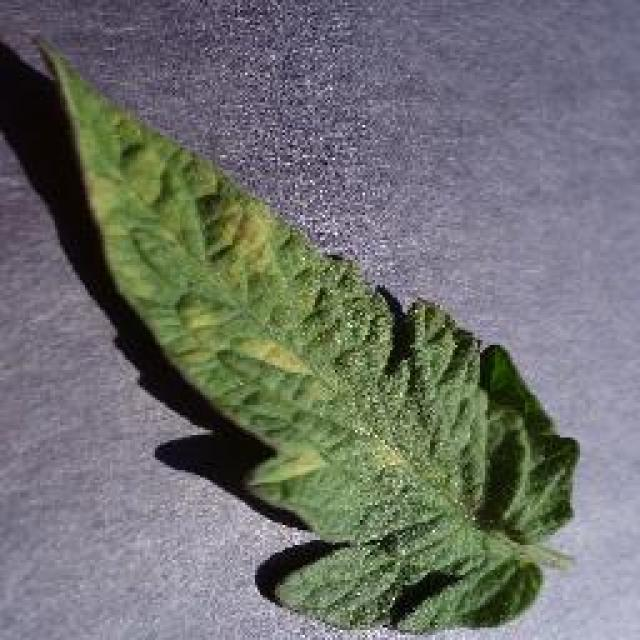Tomato mold leaf: (47, 33, 582, 635)
